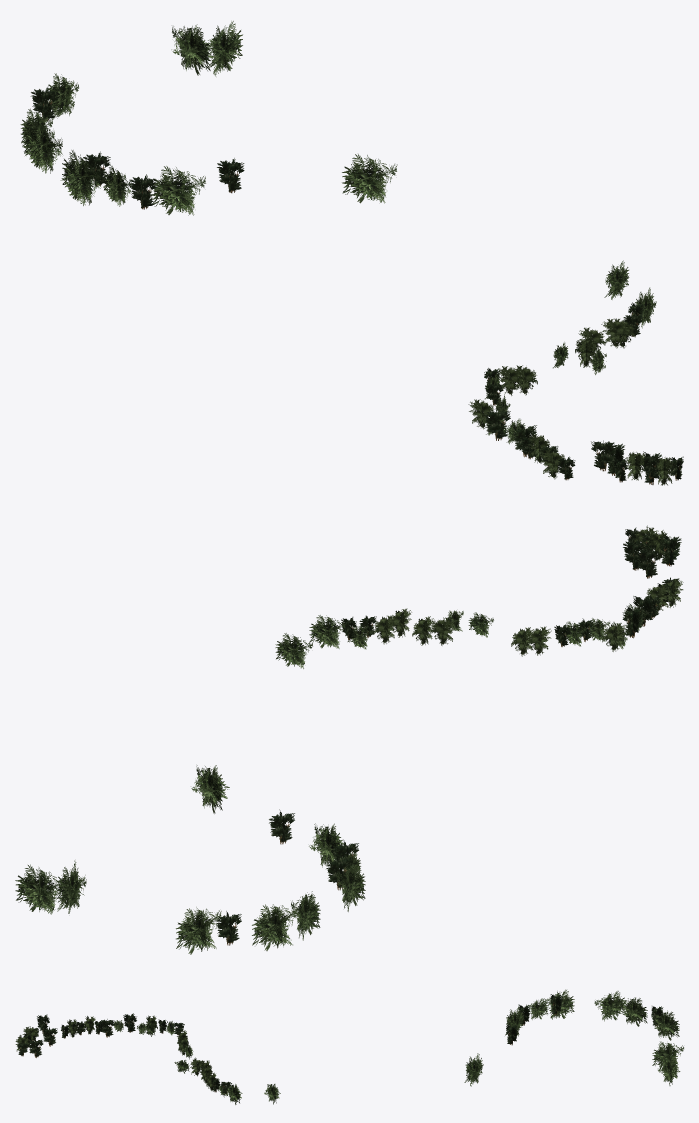
Rendered from pirtetrees01_lvs.obj.
3 renders of one model, top to bottom at view 1: azimuth 30°, elevation 25°; view 2: azimuth 150°, elevation 25°; view 3: azimuth 270°, elevation 25°, orthographic. The views are drawn at different scales.
Visible parts, largest first — view 1: pirtetrees01_lvS; view 2: pirtetrees01_lvS; view 3: pirtetrees01_lvS.
Part boxes in pixels (box(x1,y1,x2,y2)): pirtetrees01_lvS: box(20, 21, 683, 485); pirtetrees01_lvS: box(15, 525, 683, 954); pirtetrees01_lvS: box(15, 989, 683, 1104).
Bounding box in the file's own units: 39.27 × 7.52 × 113.
Materials: 3 (3 with a texture image).
